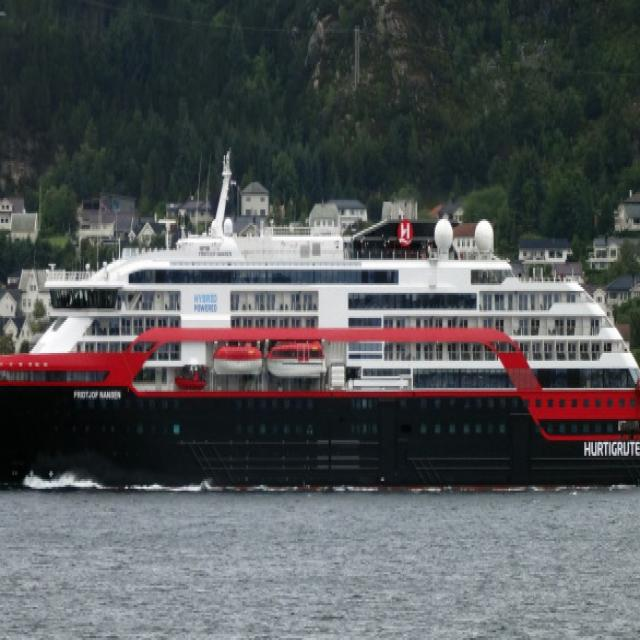cruises: (1, 148, 640, 511)
